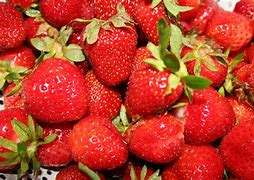Fresa: (22, 55, 90, 125), (83, 17, 139, 86), (69, 115, 129, 173), (129, 58, 186, 117), (185, 83, 236, 147), (180, 34, 229, 88), (29, 121, 75, 168)
